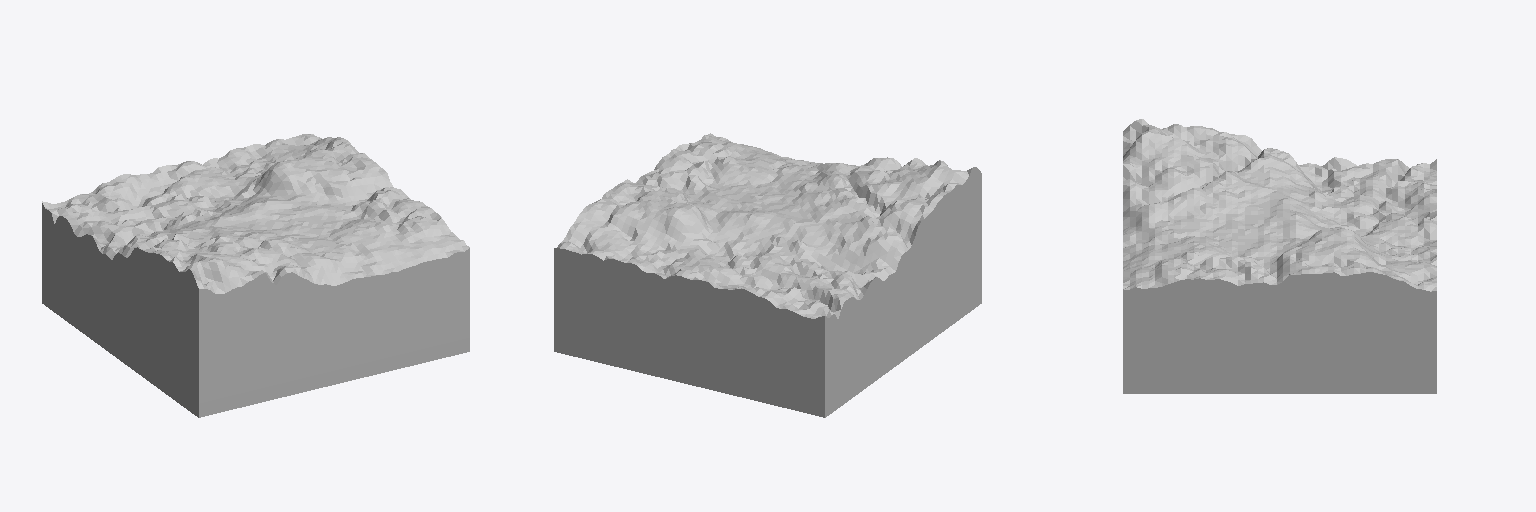
File: block_2_2.obj
3 views of the same model, side by side, from view 1: azimuth 30°, elevation 25°; view 2: azimuth 150°, elevation 25°; view 3: azimuth 270°, elevation 25° (orthographic).
Visible parts, largest first — view 1: Mesh_9; view 2: Mesh_9; view 3: Mesh_9.
Part boxes in pixels (x1,y1,x2,y2): Mesh_9: (42, 134, 469, 417); Mesh_9: (554, 133, 981, 417); Mesh_9: (1123, 119, 1436, 393).
Size of the model in its own units: 0.1 by 0.0502 by 0.1.